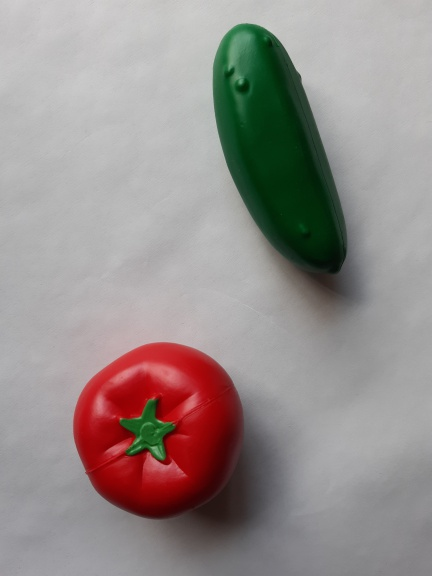cucumber: (203, 17, 354, 283)
tomato: (66, 336, 256, 530)
